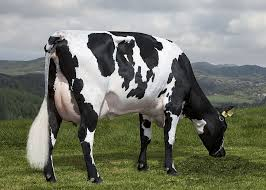waka: (20, 26, 235, 185)
